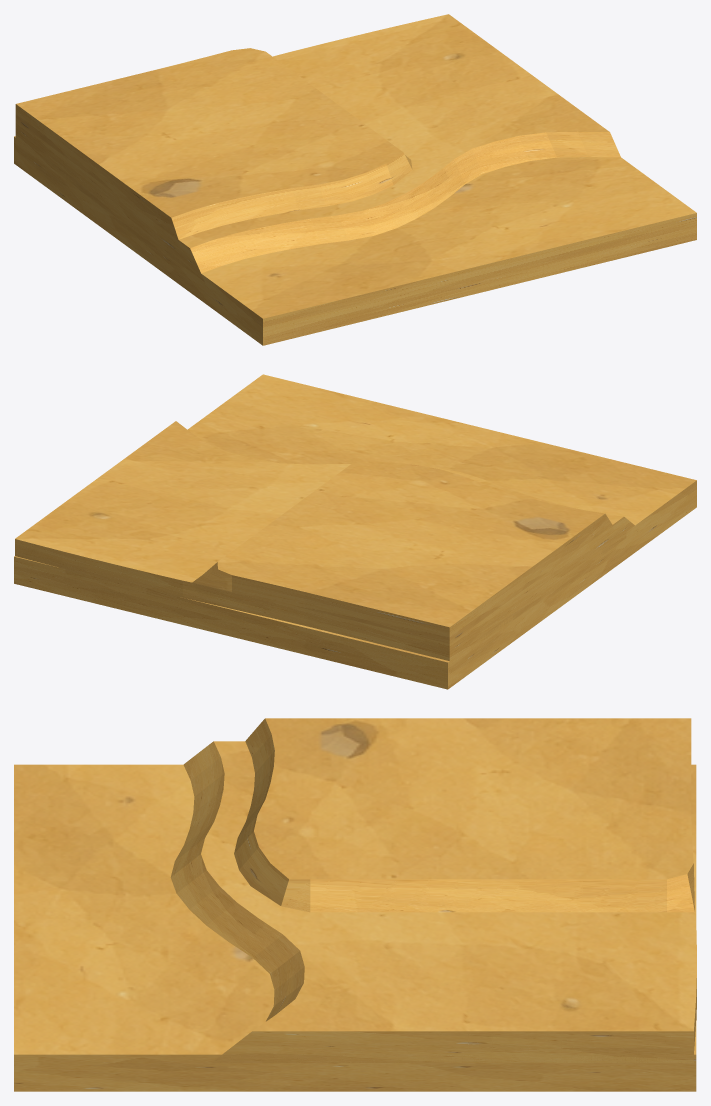
File: FLOOR.fbx
3 renders of one model, top to bottom at view 1: azimuth 30°, elevation 25°; view 2: azimuth 150°, elevation 25°; view 3: azimuth 270°, elevation 25°, orthographic. The views are drawn at different scales.
Parts seen in each view (by area): view 1: Cube.235; view 2: Cube.235; view 3: Cube.235.
Part boxes in pixels (bbox=[...]): Cube.235: bbox=[14, 14, 696, 345]; Cube.235: bbox=[14, 374, 696, 689]; Cube.235: bbox=[14, 718, 696, 1091].
Size of the model in its own units: 6815 by 915 by 6781.
